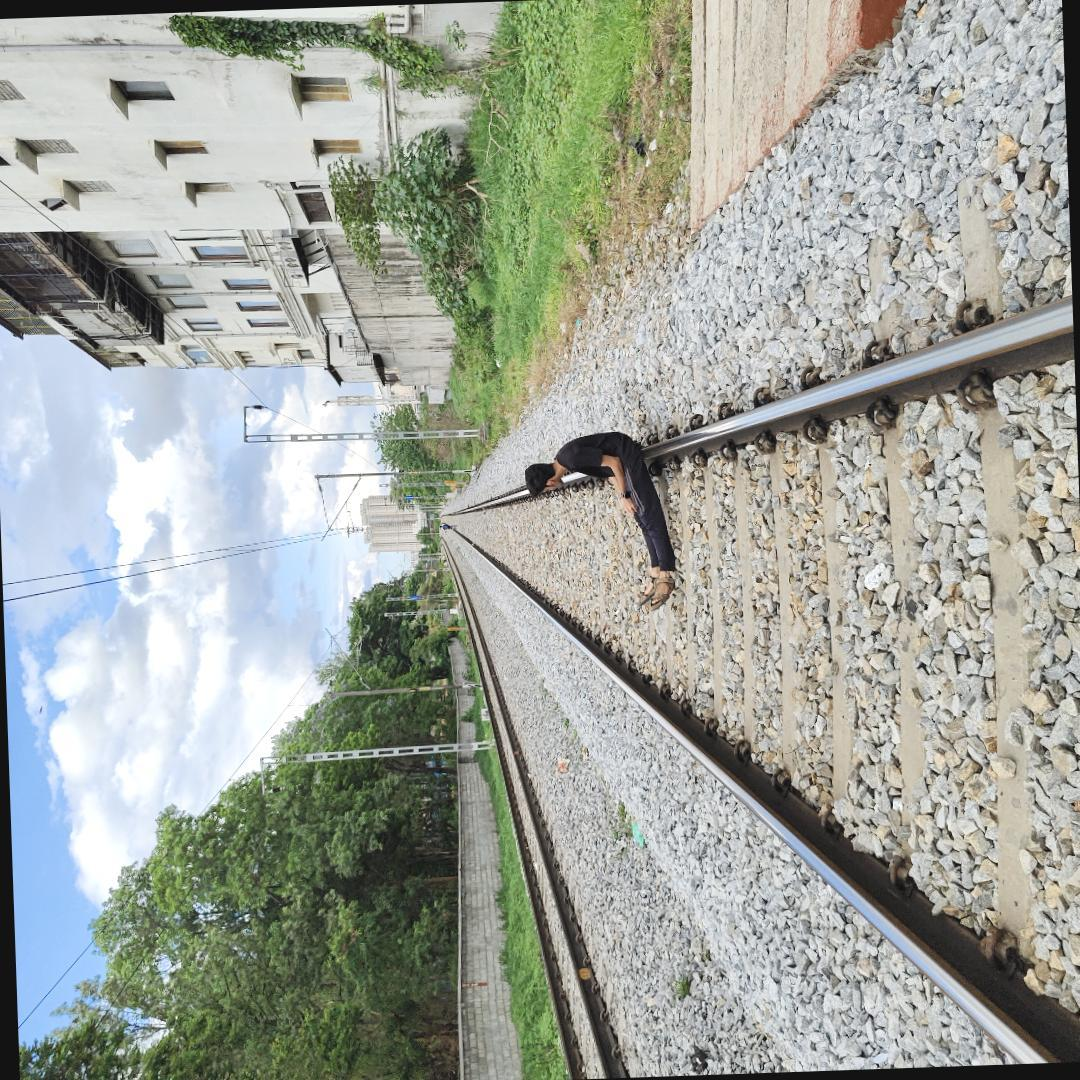sitting: (520, 429, 675, 621)
